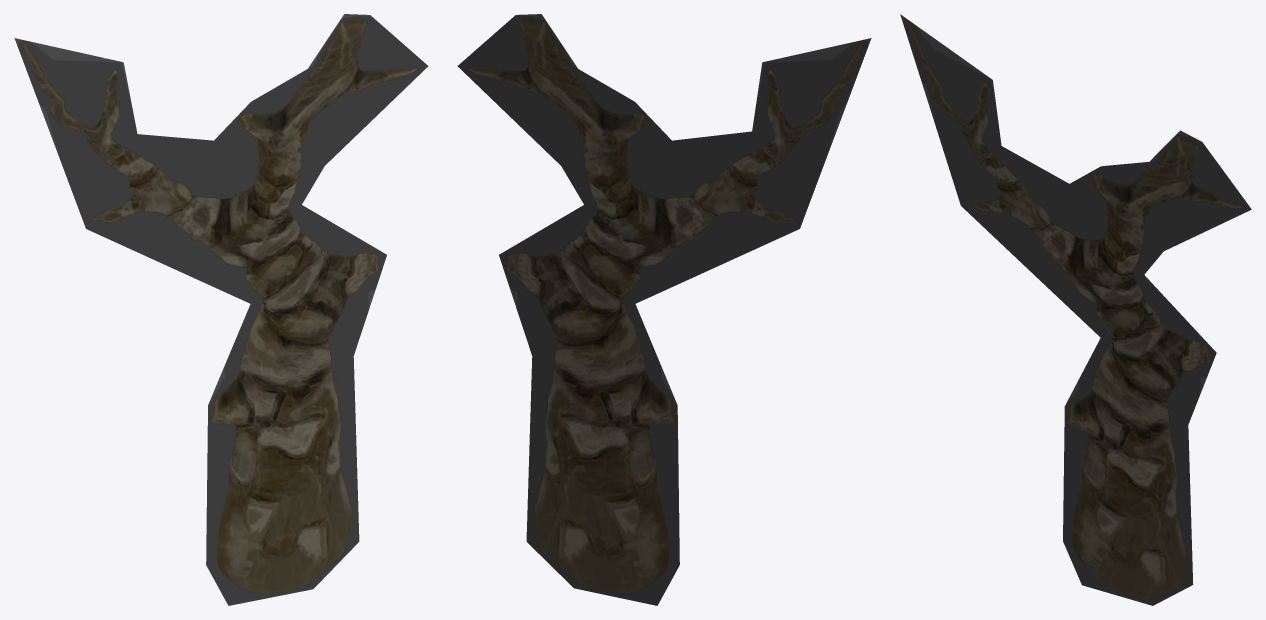
Rendered from Birch_Mesh.fbx.
The picture shows the model from 3 angles, left to right: view 1: azimuth 30°, elevation 25°; view 2: azimuth 150°, elevation 25°; view 3: azimuth 330°, elevation 25°; orthographic projection. The views are drawn at different scales.
Visible parts, largest first — view 1: Birch; view 2: Birch; view 3: Birch.
Part boxes in pixels (left/top/right/bottom): Birch: left=14, top=14, right=428, bottom=605; Birch: left=457, top=14, right=871, bottom=605; Birch: left=900, top=14, right=1251, bottom=605.
Size of the model in its own units: 308 by 443 by 2.47.
Materials: 1 (1 with a texture image).
